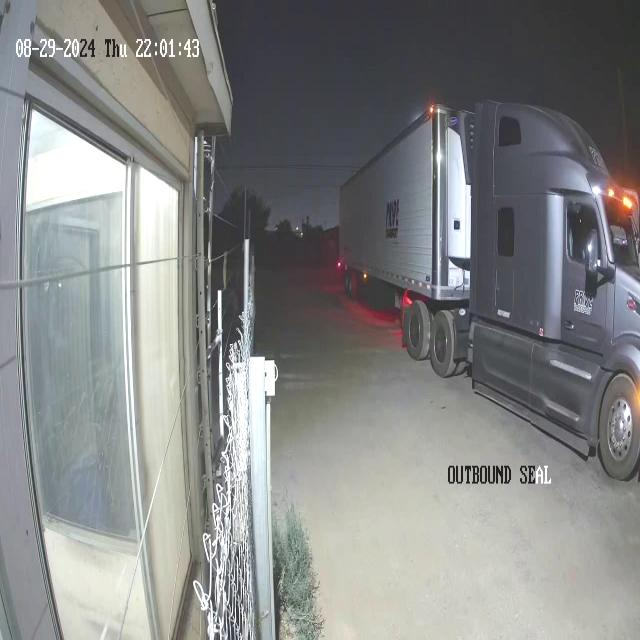CONTAINER: (339, 96, 477, 298)
